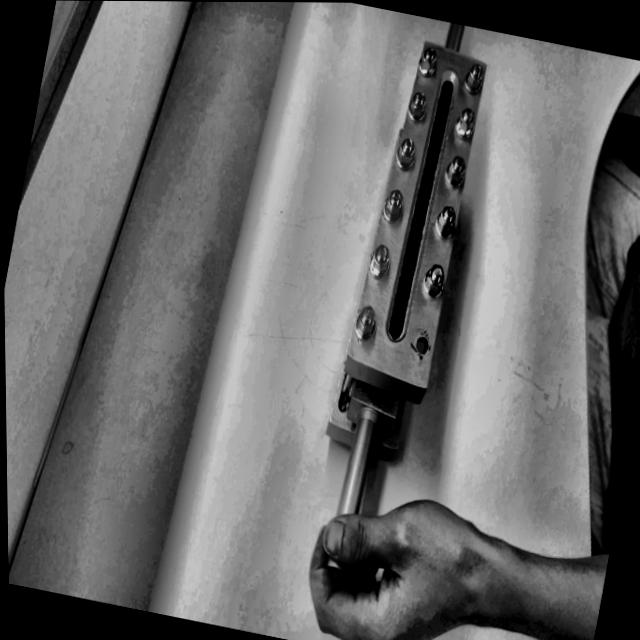ShuiWeiQi_11: (271, 15, 558, 495)
